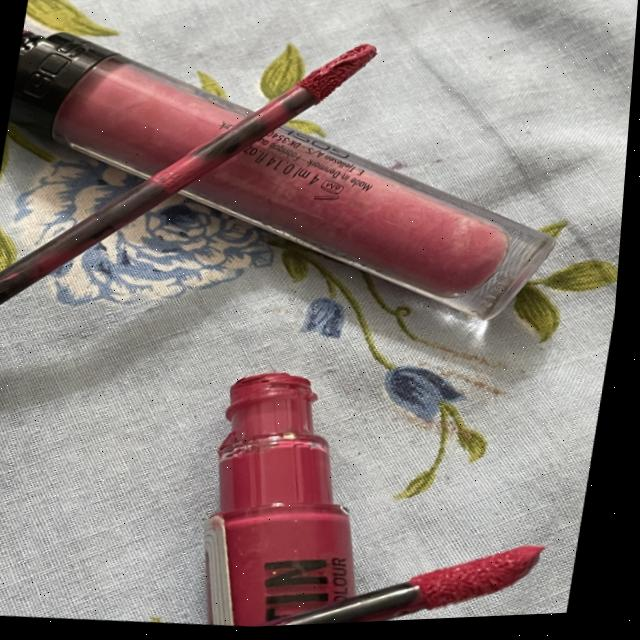lip gloss: (0, 0, 621, 354), (165, 351, 428, 633), (392, 501, 577, 625), (268, 13, 412, 135)
